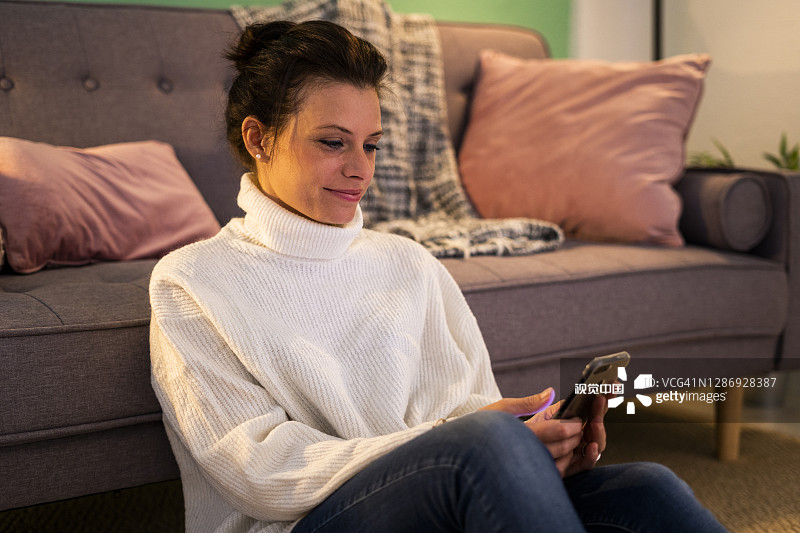reading: (448, 356, 630, 483)
